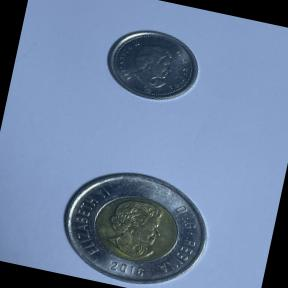coin: (45, 152, 222, 288), (94, 16, 207, 112)
